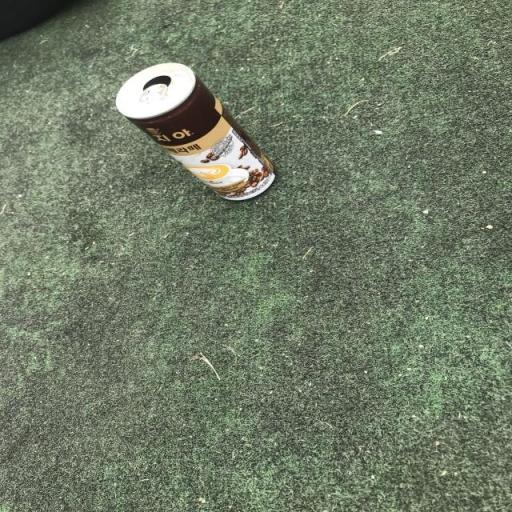metal: (66, 44, 291, 214)
